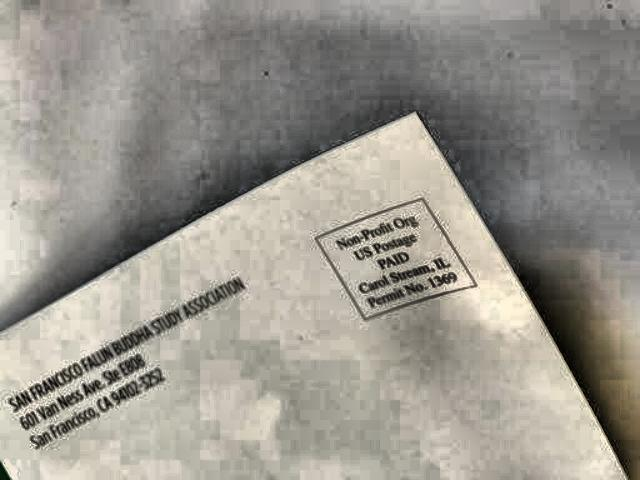Paper: (0, 107, 636, 480)
